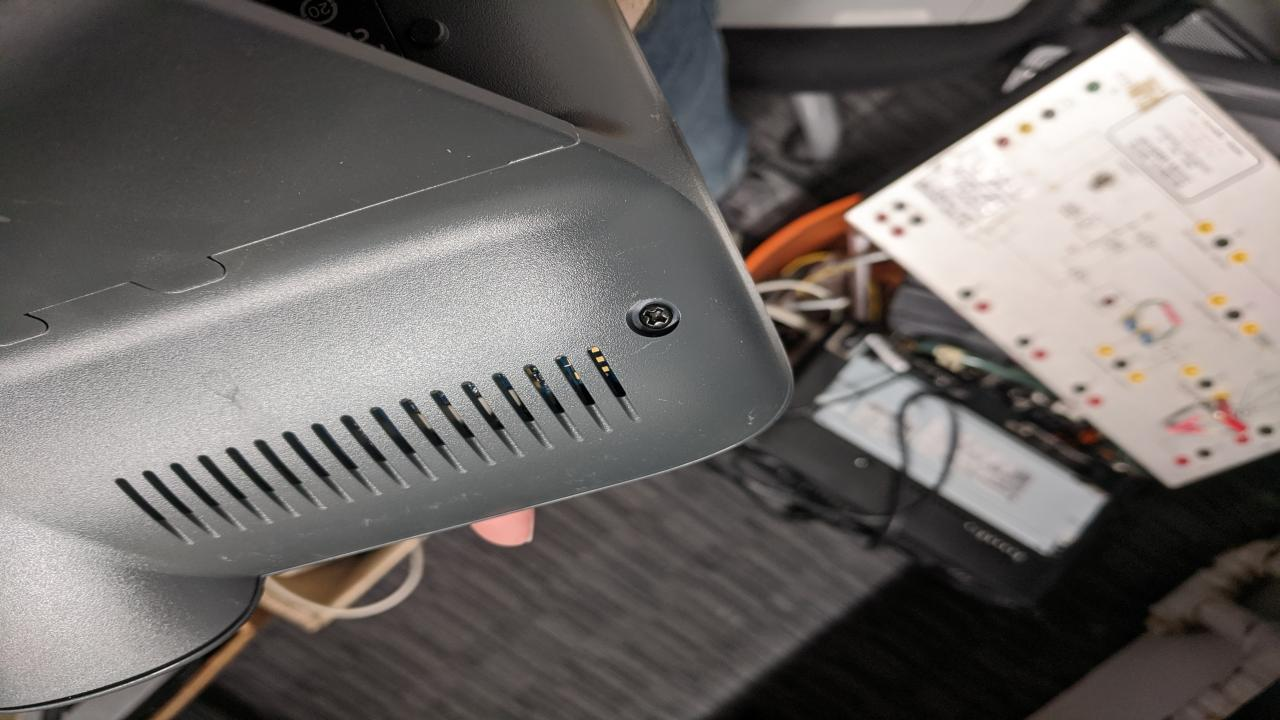CRS: (636, 302, 674, 331)
